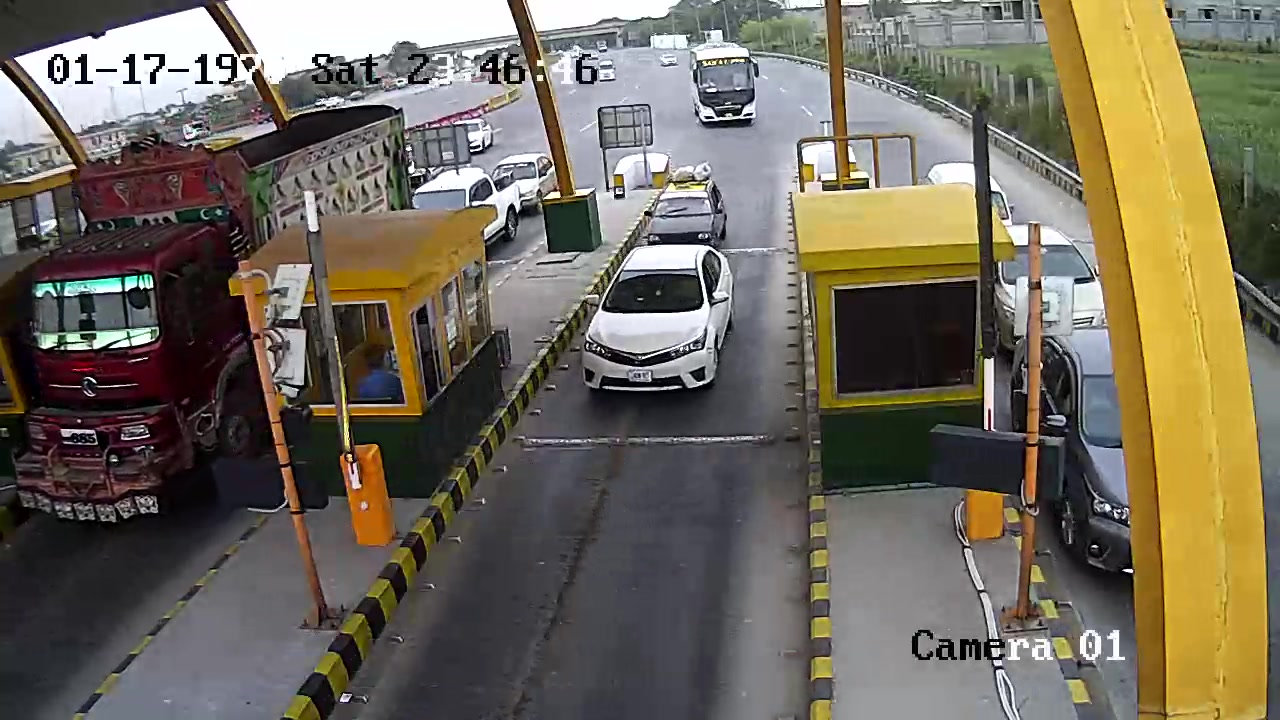F1: (578, 239, 753, 404)
